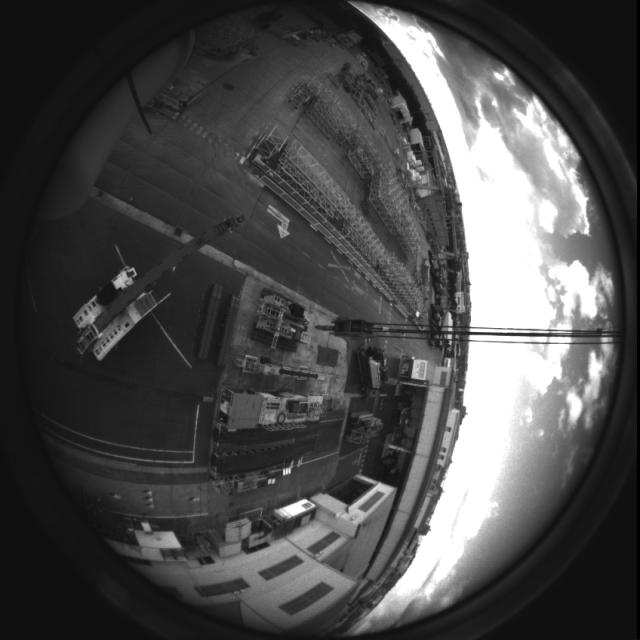rope: (303, 310, 637, 350)
